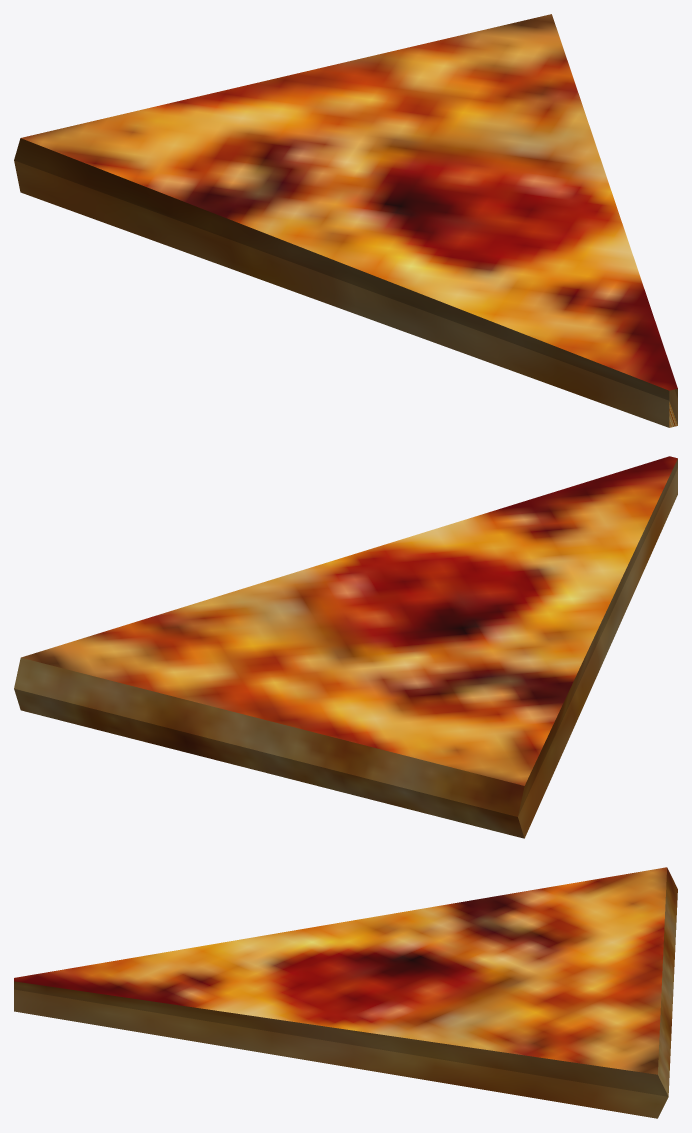
File: pizza_slice.glb
3 renders of one model, top to bottom at view 1: azimuth 30°, elevation 25°; view 2: azimuth 150°, elevation 25°; view 3: azimuth 270°, elevation 25°, orthographic. The views are drawn at different scales.
Parts seen in each view (by area): view 1: pizza slice; view 2: pizza slice; view 3: pizza slice.
Part boxes in pixels (x1,y1,x2,y2): pizza slice: [14, 14, 677, 427]; pizza slice: [14, 456, 677, 838]; pizza slice: [14, 867, 677, 1118].
Size of the model in its own units: 0.1757 by 0.0174 by 0.2374.
Materials: 1 (1 with a texture image).
